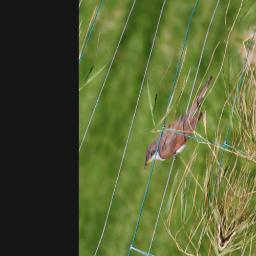Cuckoo: (139, 56, 220, 187)
